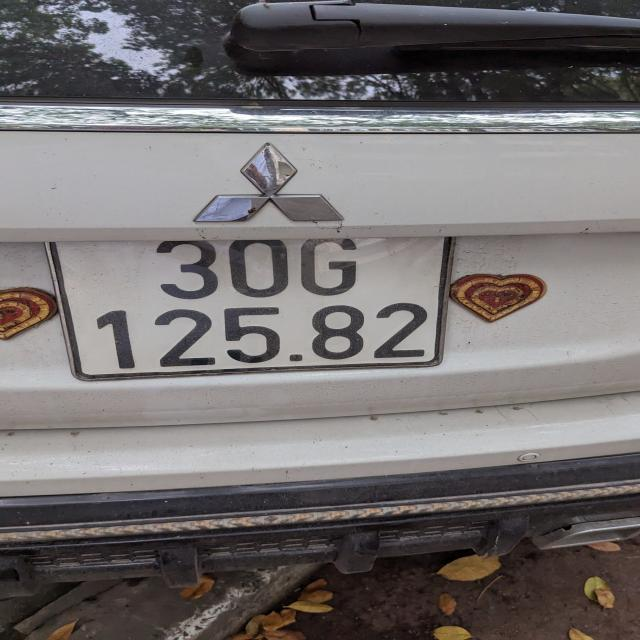license: (47, 234, 452, 381)
